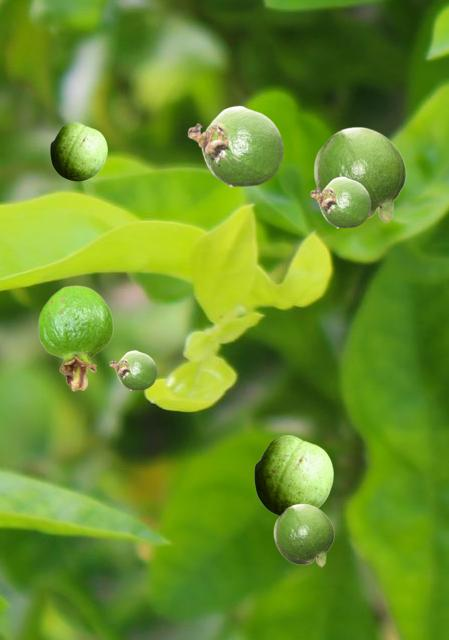guava: (313, 126, 405, 222), (187, 105, 283, 186), (38, 285, 112, 390), (254, 435, 332, 515), (273, 503, 333, 566), (50, 122, 106, 180), (310, 176, 370, 227), (109, 350, 156, 389)
